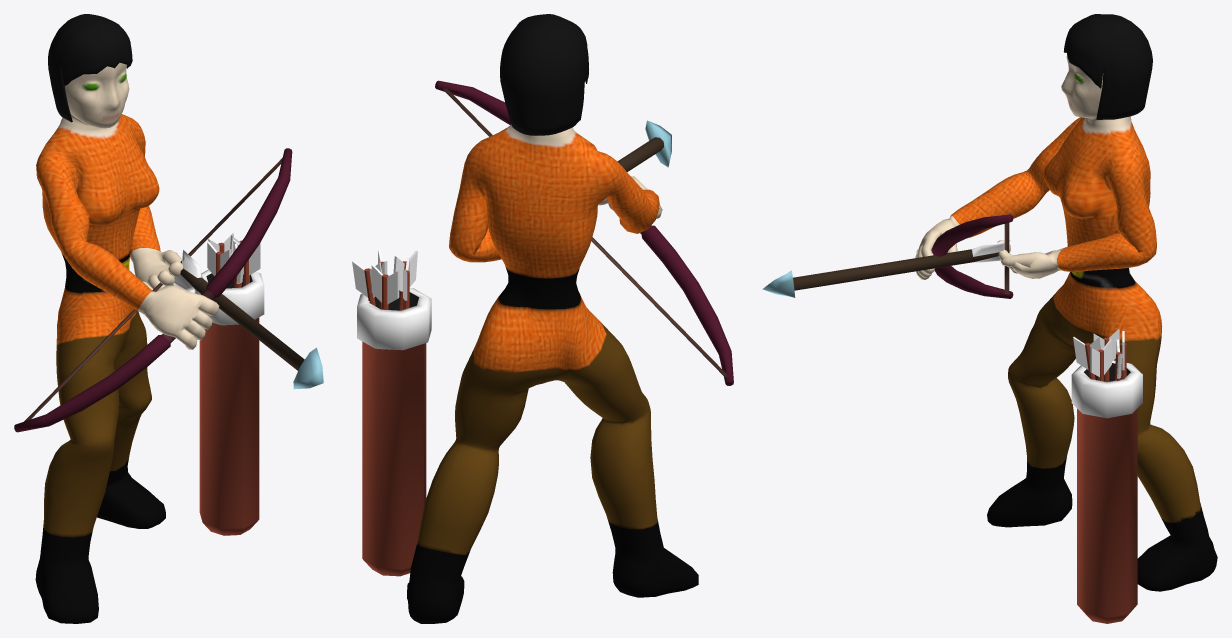
File: Player06Menus.dae
3 views of the same model, side by side, from view 1: azimuth 30°, elevation 25°; view 2: azimuth 150°, elevation 25°; view 3: azimuth 270°, elevation 25° (orthographic). The views are drawn at different scales.
Visible parts, largest first — view 1: Player06ForMenus; view 2: Player06ForMenus; view 3: Player06ForMenus.
Part boxes in pixels (<box>): Player06ForMenus: <box>14,14,323,623</box>; Player06ForMenus: <box>352,14,733,623</box>; Player06ForMenus: <box>762,14,1217,623</box>.
Bounding box in the file's own units: 1.1 × 1.5 × 1.94.
Materials: 11 (1 with a texture image).
